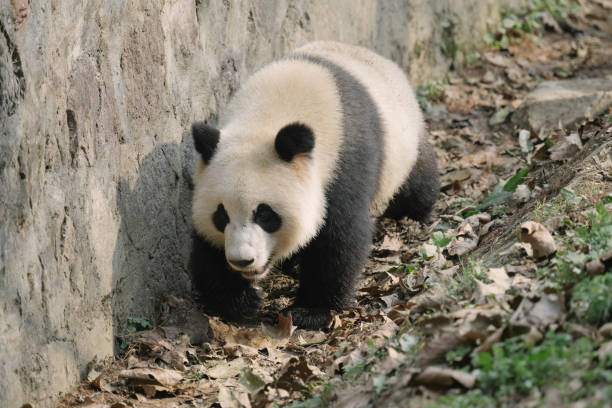panda: (172, 113, 338, 295)
